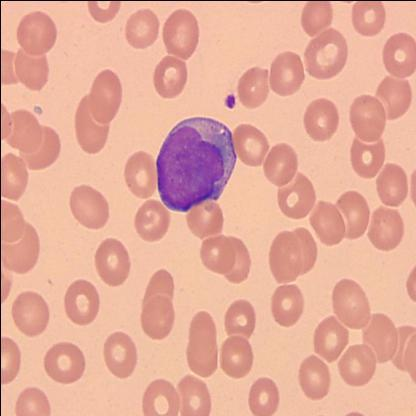Promyelocyte: (155, 118, 235, 212)
